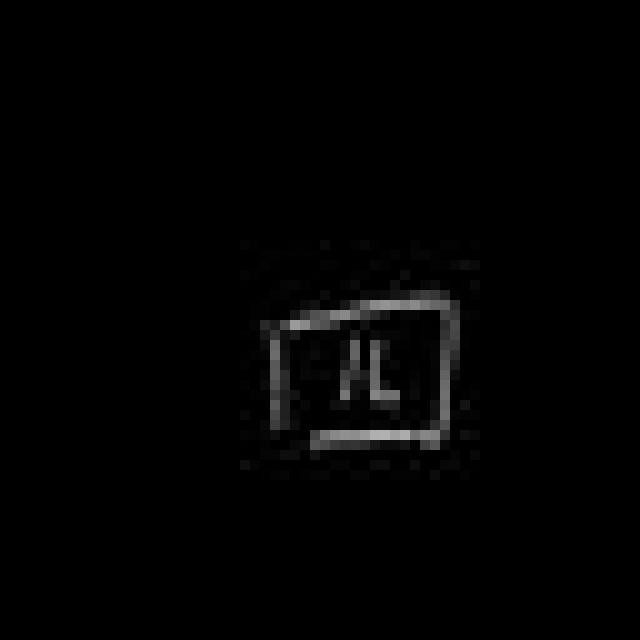4 -four-: (253, 288, 470, 462)
